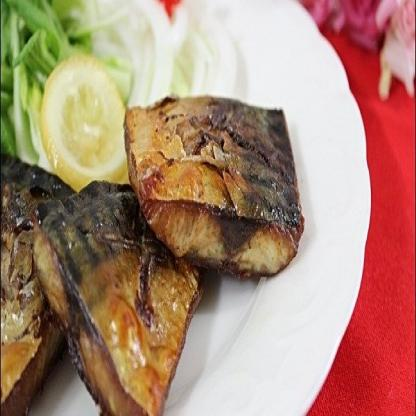Peixe: (0, 114, 323, 415)
